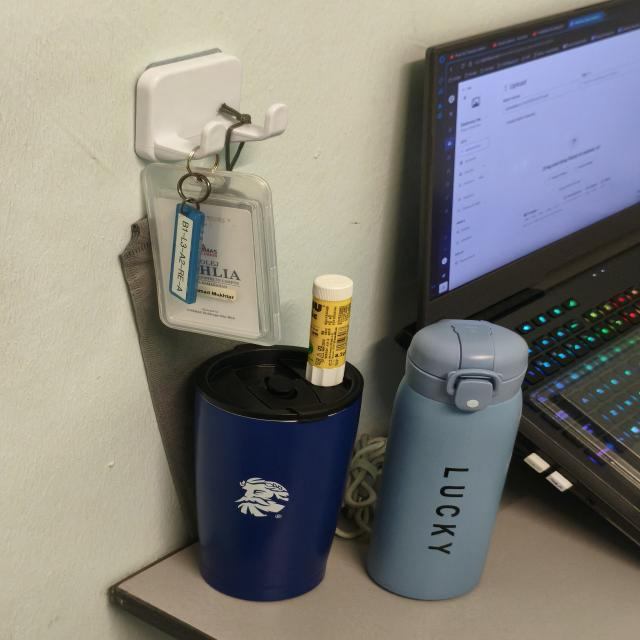glue: (305, 274, 354, 387)
